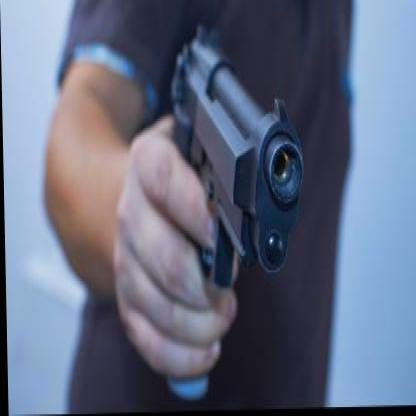pistol: (154, 27, 308, 401)
